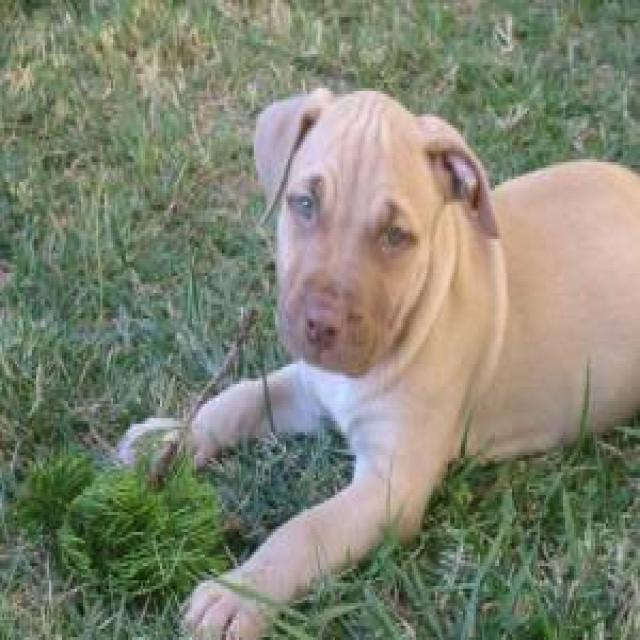dog-american_pit_bull_terrier: (124, 80, 636, 634)
